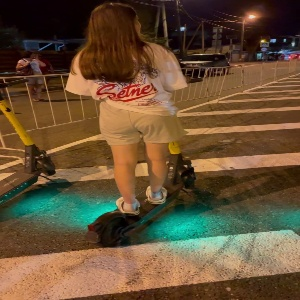human on a scooter: (64, 1, 203, 248)
